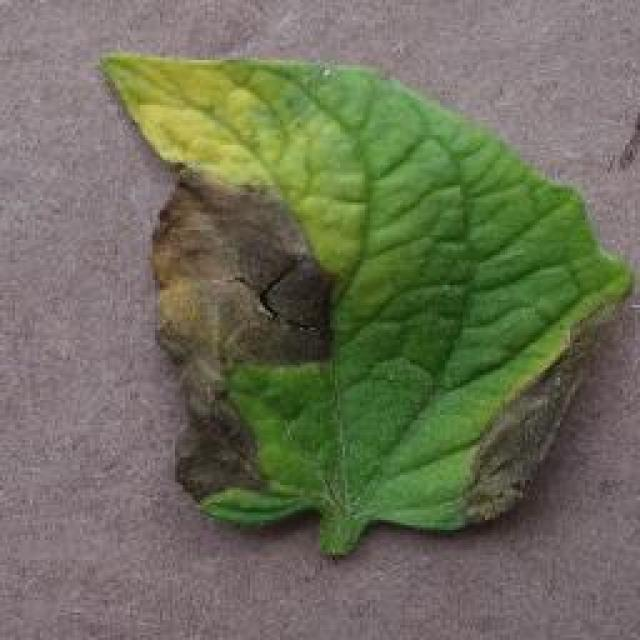Tomato_Early_Blight: (93, 60, 354, 546), (453, 240, 632, 532)
